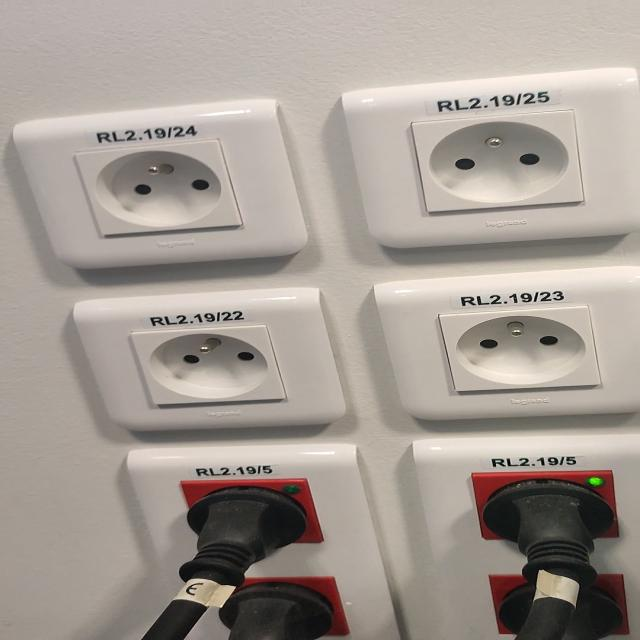house plug: (415, 110, 585, 212), (74, 139, 241, 237), (440, 307, 599, 393), (132, 326, 286, 405)
